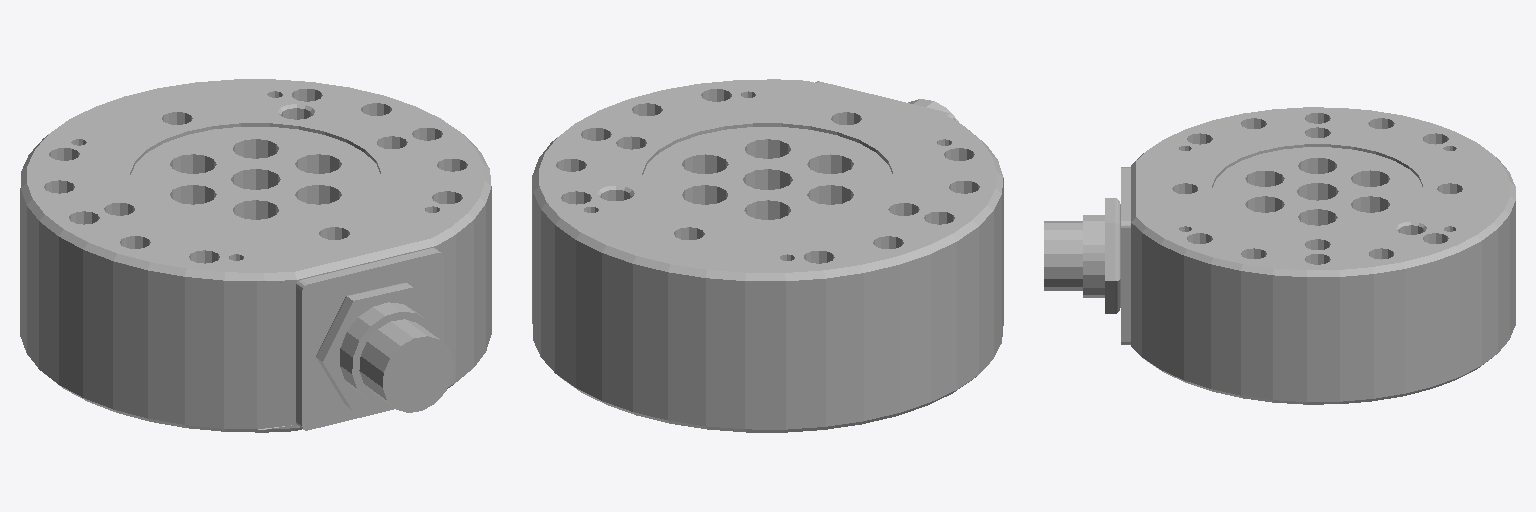
robot.urdf — xarm6_link6:
<?xml version="1.0" encoding="utf-8"?>
<!-- =================================================================================== -->
<!-- |    This document was autogenerated by xacro from xarm6_robot.urdf.xacro         | -->
<!-- |    EDITING THIS FILE BY HAND IS NOT RECOMMENDED                                 | -->
<!-- =================================================================================== -->
<robot name="xarm6_link6">
  <!--
  Author: [author] <[email redacted]>
  Contributers:
-->
  <gazebo>
    <plugin filename="libgazebo_ros_control.so" name="gazebo_ros_control">
      <robotNamespace>/xarm</robotNamespace>
      <!-- <controlPeriod>0.0001</controlPeriod> -->
      <robotSimType>gazebo_ros_control/DefaultRobotHWSim</robotSimType>
      <legacyModeNS>true</legacyModeNS>
      <!-- <preserveWorldVelocity>true</preserveWorldVelocity> -->
    </plugin>
  </gazebo>
  <link name="world"/>
  <joint name="world_joint" type="fixed">
    <parent link="world"/>
    <child link="link6"/>
    <origin rpy="0 0 0" xyz="0 0 0"/>
  </joint>
  <material name="Black">
    <color rgba="0.0 0.0 0.0 1.0"/>
  </material>
  <material name="Red">
    <color rgba="0.85 0.19  0.21 1.0"/>
  </material>
  <material name="Blue">
    <color rgba="0.28 0.52 0.92 1.0"/>
  </material>
  <material name="Green">
    <color rgba="0.23 0.72 0.32 1.0"/>
  </material>
  <material name="Yellow">
    <color rgba="0.95 0.76 0.05 1.0"/>
  </material>
  <material name="White">
    <color rgba="1.0 1.0 1.0 1.0"/>
  </material>
  <material name="Silver">
    <color rgba="0.753 0.753 0.753 1.0"/>
  </material>

  <link name="link6">
    <visual>
      <geometry>
        <mesh filename="package://xarm_description/meshes/xarm6/visual/link6.stl"/>
      </geometry>
      <origin rpy="0 0 0" xyz="0 0 0"/>
      <material name="Silver"/>
    </visual>
    <collision>
      <geometry>
        <mesh filename="package://xarm_description/meshes/xarm6/collision/link6_vhacd.obj"/>
      </geometry>
      <origin rpy="0 0 0" xyz="0 0 0"/>
    </collision>
    <inertial>
      <origin rpy="0 0 0" xyz="0 0.00064 -0.00952"/>
      <mass value="0.1096"/>
      <inertia ixx="4.5293E-05" ixy="0" ixz="0" iyy="4.8111E-05" iyz="0" izz="7.9715E-05"/>
    </inertial>
  </link>

</robot>

--- What the picture shows (computed from the rendered views, not written in the file) ---
3 views of the same robot in one strip: view 1: azimuth 30°, elevation 25°; view 2: azimuth 150°, elevation 25°; view 3: azimuth 270°, elevation 25° (orthographic).
Robot: xarm6_link6 — 2 links, 1 joints (1 fixed); root link world; default pose: every joint at zero.
Visible links, largest first — view 1: link6; view 2: link6; view 3: link6.
Link boxes in pixels (x1,y1,x2,y2): link6: [20, 79, 491, 432]; link6: [532, 79, 1003, 432]; link6: [1044, 107, 1515, 404].
Size in the robot's own frame: 0.0749 by 0.089 by 0.028 metres.
1 mesh visuals loaded from 1 distinct referenced files (1 binary STL).
